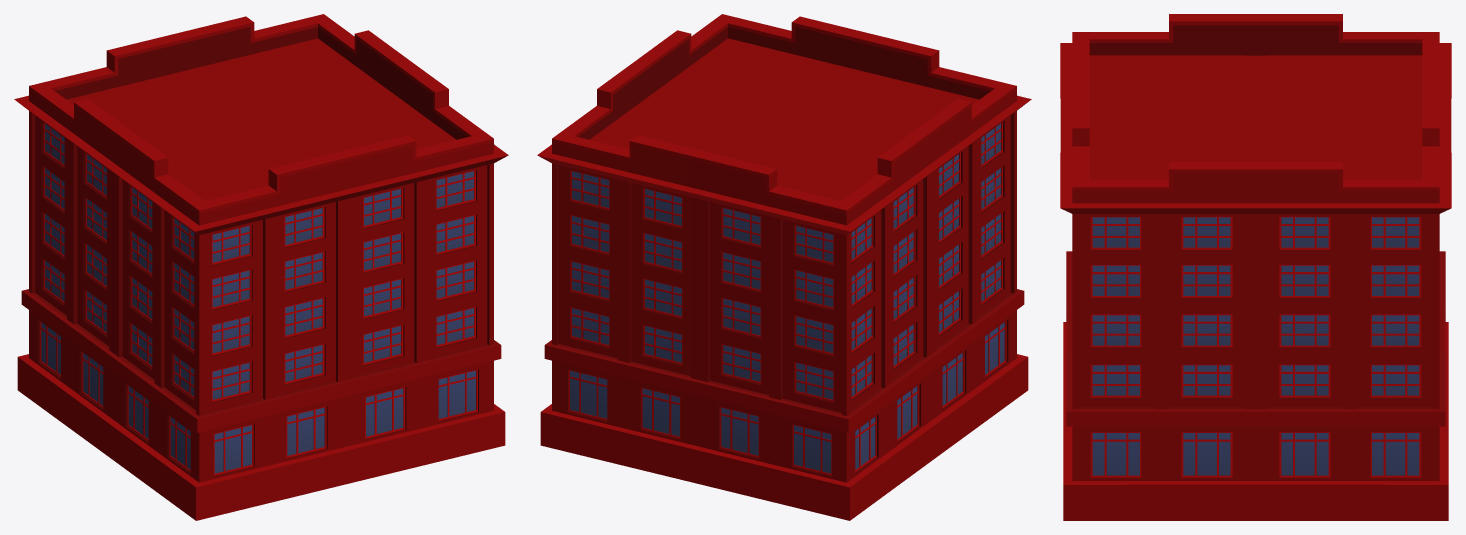
Rendered from Mesh.LoftBrown.fbx.
The picture shows the model from 3 angles, left to right: view 1: azimuth 30°, elevation 25°; view 2: azimuth 150°, elevation 25°; view 3: azimuth 270°, elevation 25°; orthographic projection. The views are drawn at different scales.
Visible parts, largest first — view 1: base.184, windowRefl.142; view 2: base.184, windowRefl.142; view 3: base.184, windowRefl.142.
Part boxes in pixels (x1,y1,x2,y2): base.184: (14,14,508,520); windowRefl.142: (41,123,475,473); base.184: (537,14,1031,520); windowRefl.142: (570,123,1004,473); base.184: (1060,14,1451,520); windowRefl.142: (1092,217,1419,475).
Bounding box in the file's own units: 2331 × 2331 × 2287.
